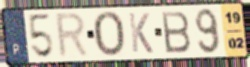5: (26, 12, 56, 60)
9: (192, 7, 221, 56)
B: (159, 10, 193, 55)
K: (127, 11, 155, 55)
O: (91, 10, 126, 59)
R: (54, 11, 91, 60)
